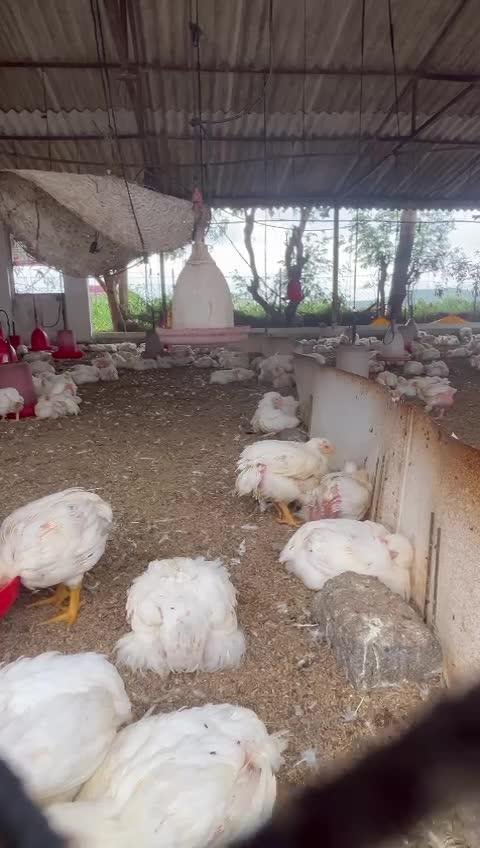AbNormal: (124, 559, 249, 673), (288, 518, 411, 581), (255, 391, 299, 429)
Normal: (4, 491, 110, 628), (235, 437, 334, 524)
